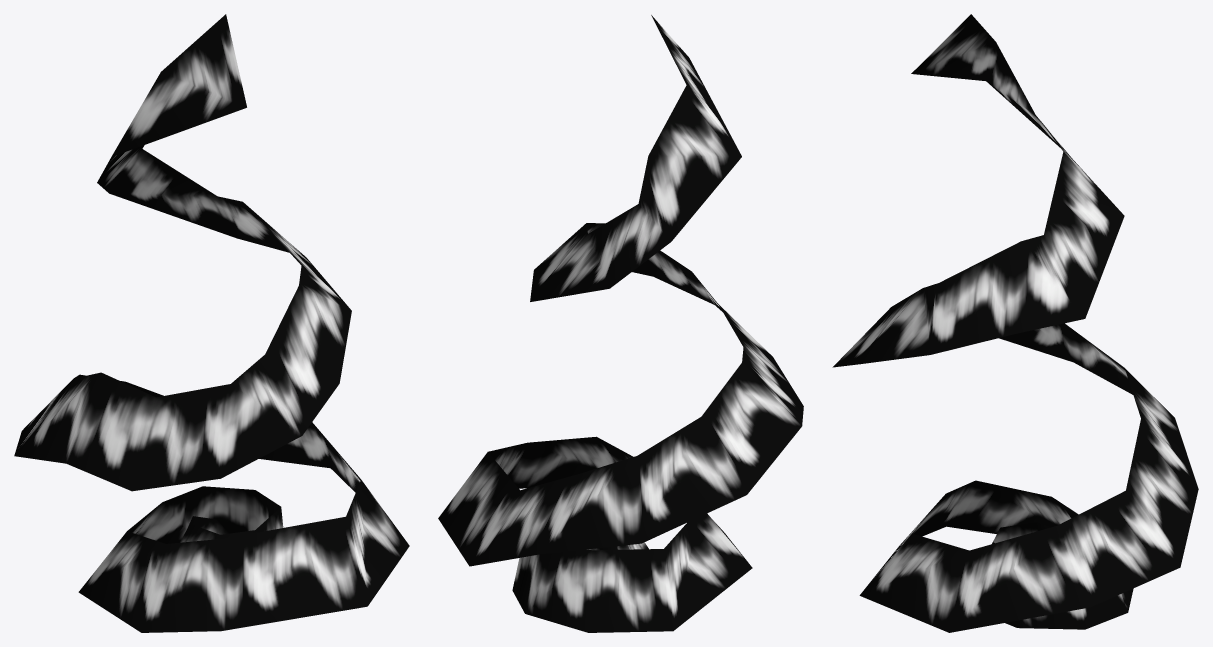
File: Summit Aurora.fbx
3 views of the same model, side by side, from view 1: azimuth 30°, elevation 25°; view 2: azimuth 150°, elevation 25°; view 3: azimuth 270°, elevation 25° (orthographic). The views are drawn at different scales.
Parts seen in each view (by area): view 1: Aurora; view 2: Aurora; view 3: Aurora.
Part boxes in pixels (box(x1,y1,x2,y2)): Aurora: box(14, 14, 409, 632); Aurora: box(438, 15, 803, 632); Aurora: box(832, 14, 1198, 632).
Bounding box in the file's own units: 49572 × 89220 × 49391.
